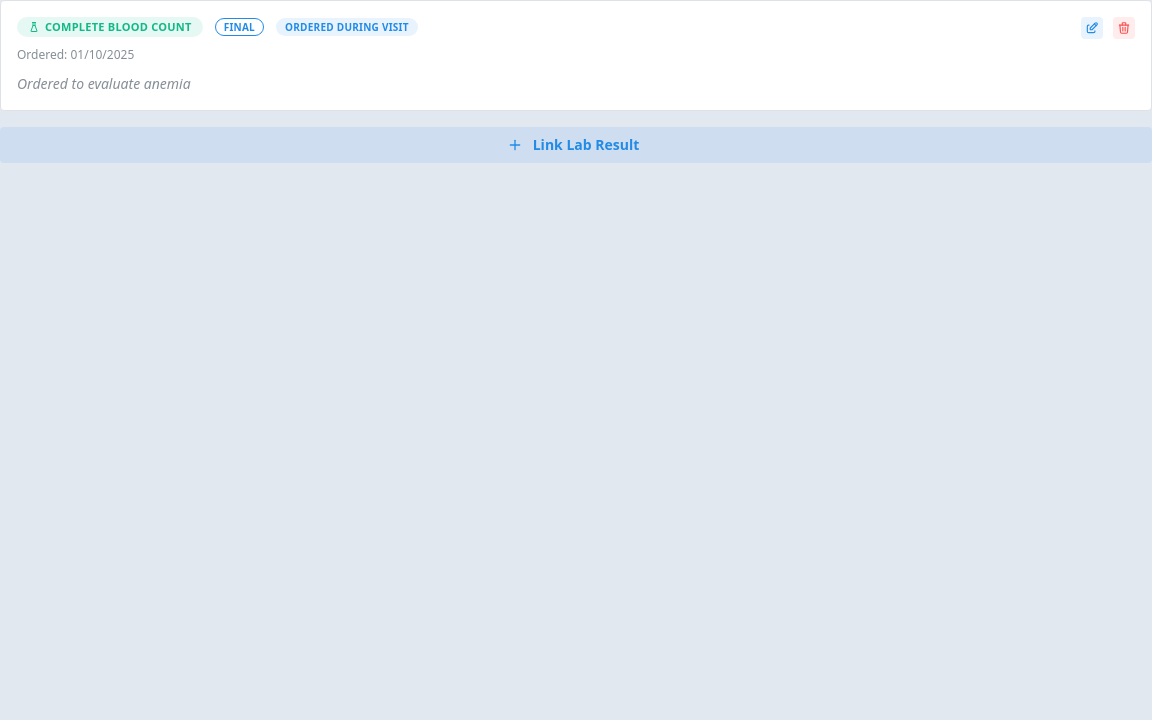
Test: EncounterLabResultRelationships Component › Modal Functionality › should open modal when Add button is clicked
Click the button "Link Lab Result": (576, 145) [0, 127, 1151, 163]
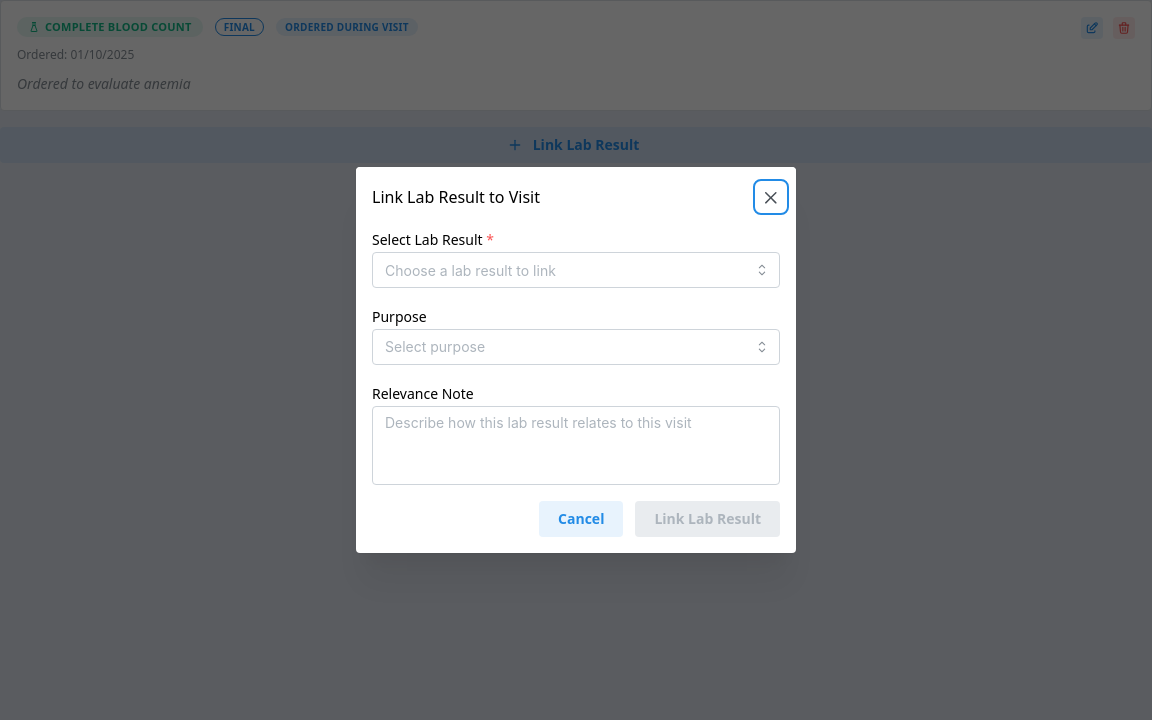
Result: the heading "Link Lab Result to Visit" is shown at [372, 189, 540, 205]
